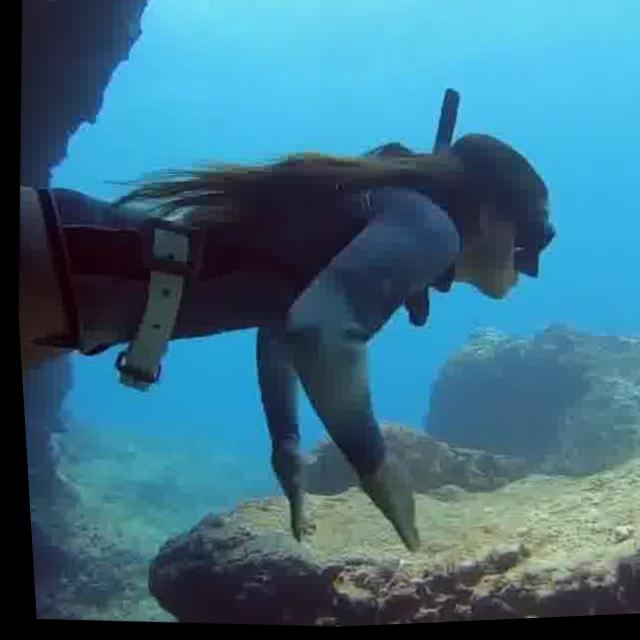human: (3, 48, 594, 590)
